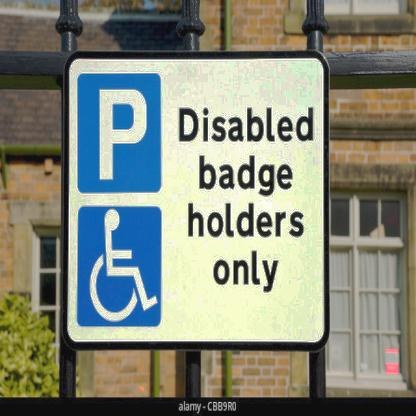Parking: (77, 67, 166, 197)
